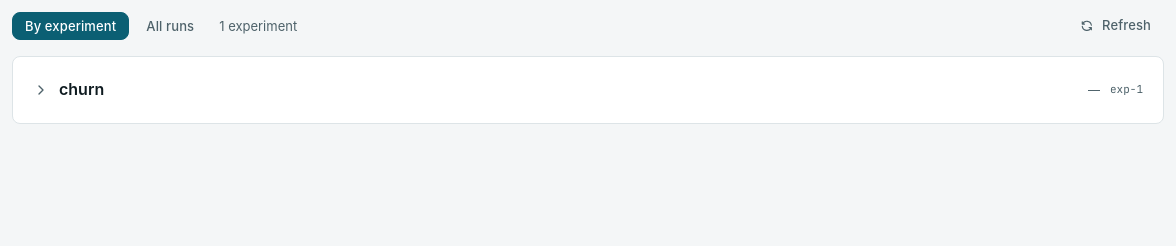
Test case: Experiments › All runs › shows the hyperparameters that differ and hides the ones every run shares
Click the button "All runs".
click(170, 26)  # box [133,12,207,40]
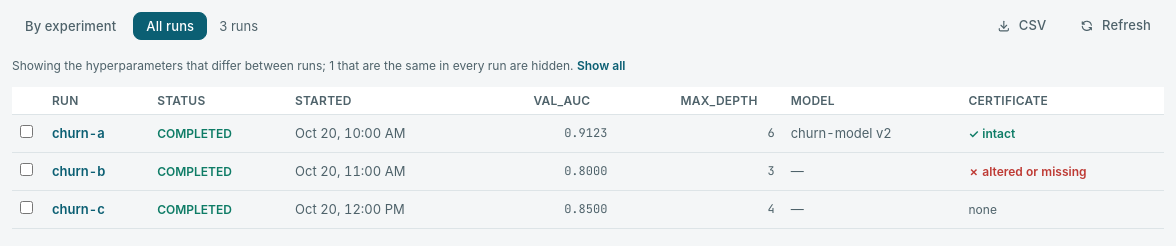
Check: the column heading "seed" is not shown
Check: the column heading "max_depth" is shown, box [615,87,783,115]
Check: the text "1 that are the same in every run are hidden" is shown, box [12,58,577,73]
Click the button "Show all".
click(601, 66)  # box [577,56,625,75]
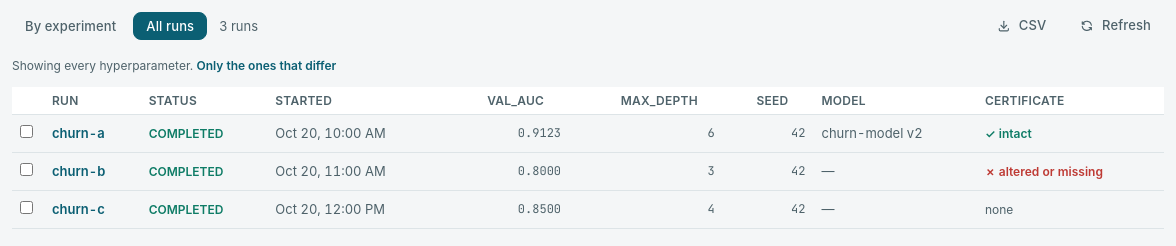
Check: the column heading "seed" is shown, box [723,87,814,115]
